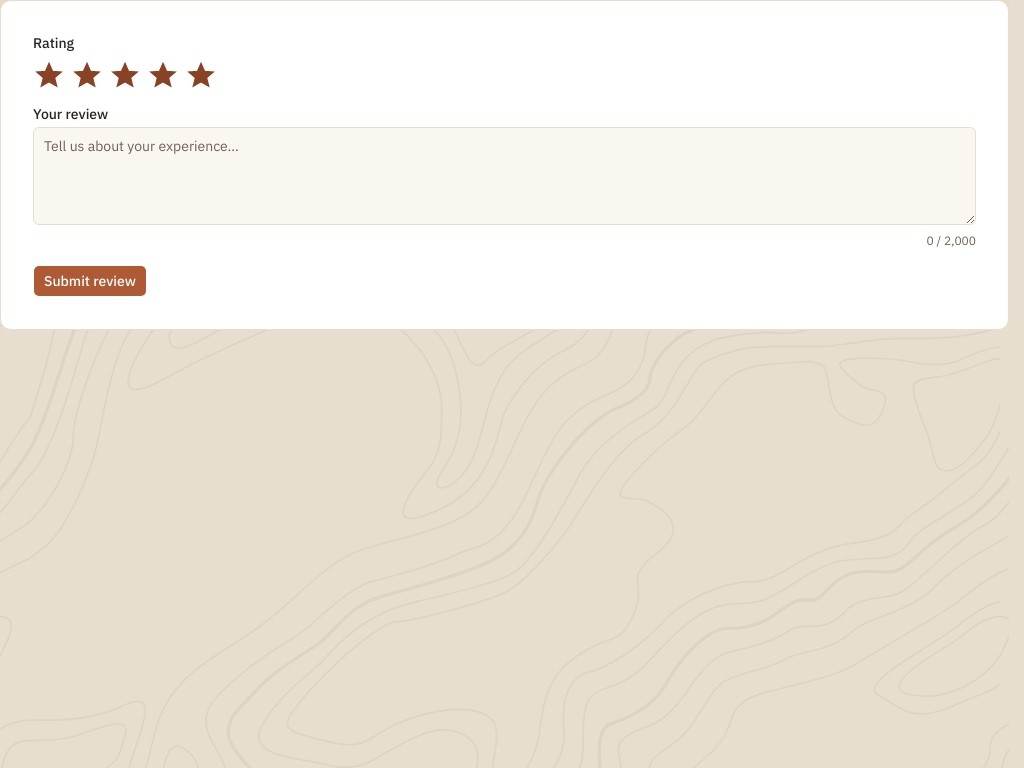
ReviewForm › blocks an empty submit client-side
The width and height of the screenshot is (1024, 768).
Check: the text box labelled "Your review" is shown, box [33,127,976,225]
Click the button "Submit review".
click(90, 281)  # box [33,265,147,297]
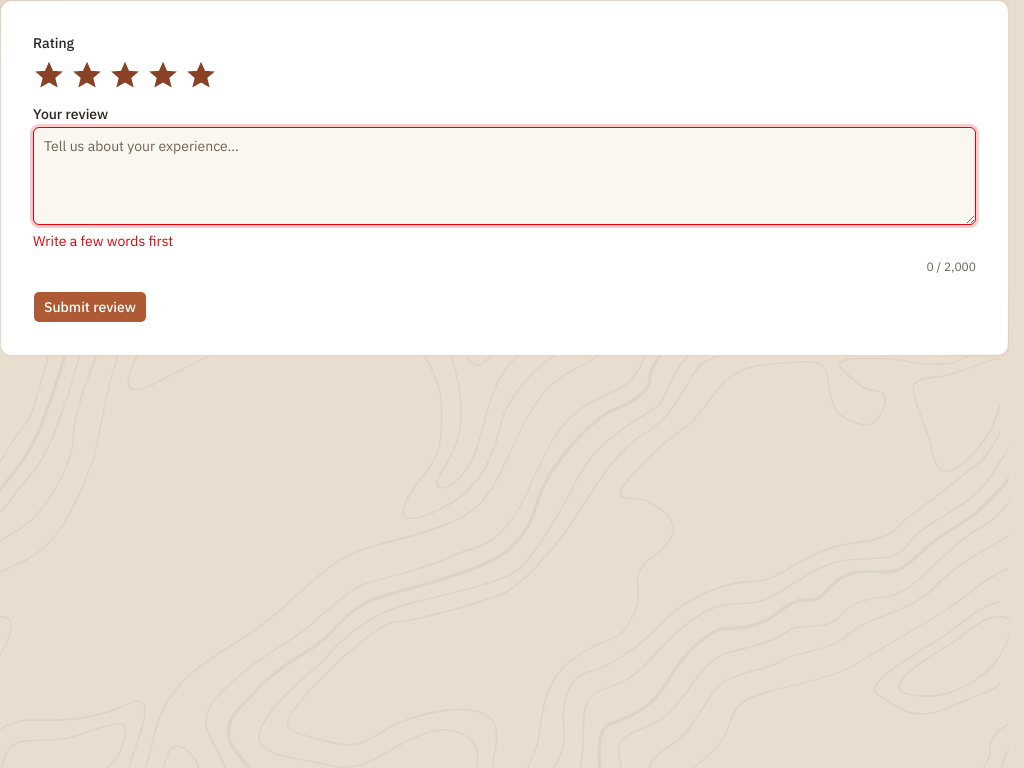
Check: the text "Write a few words first" is shown, box [33,232,173,250]
